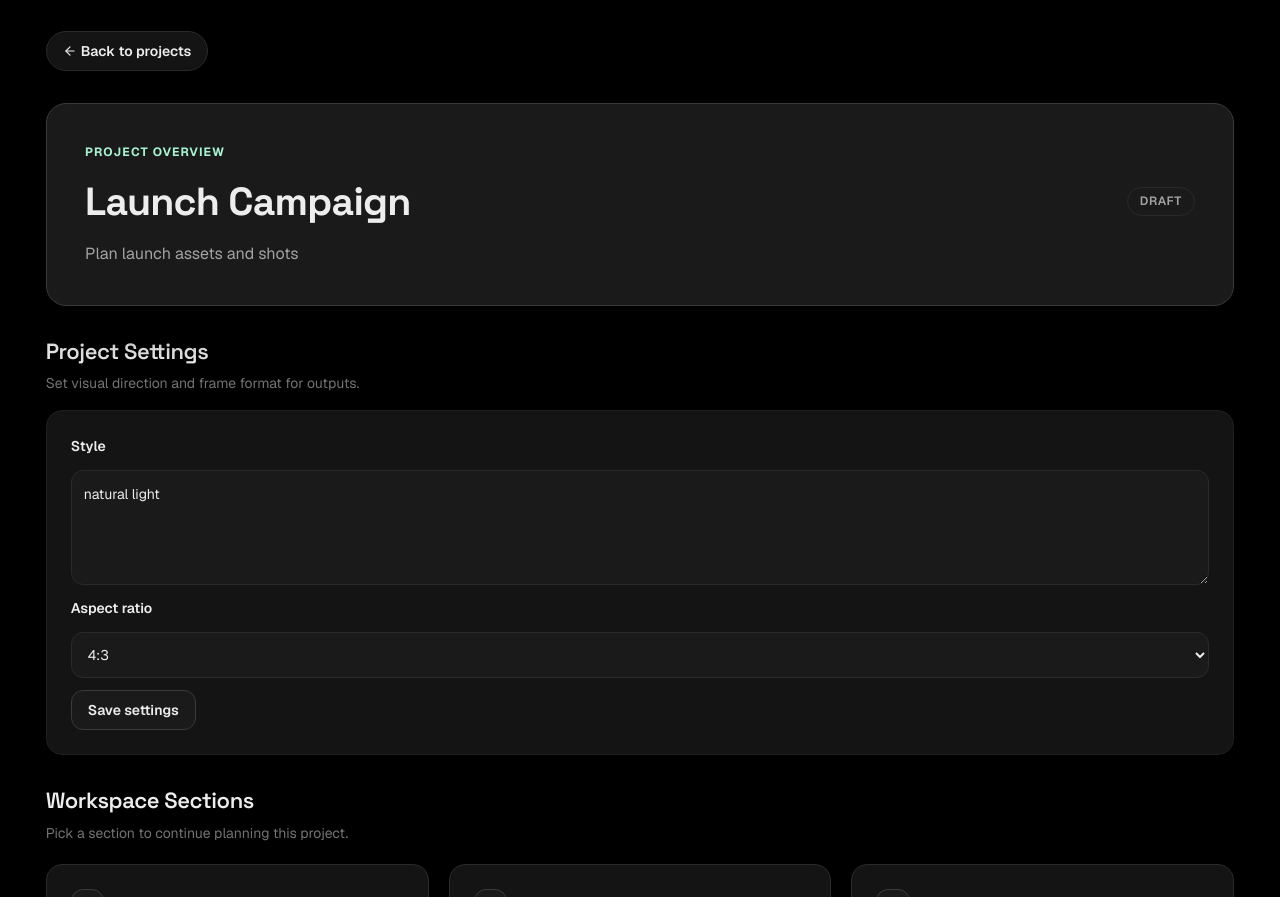
Test: ProjectOverviewPage › shows error feedback and re-enables save when update fails
Step 1. Click the button "Save settings" → (133, 710), box x1=71 y1=690 x2=196 y2=730
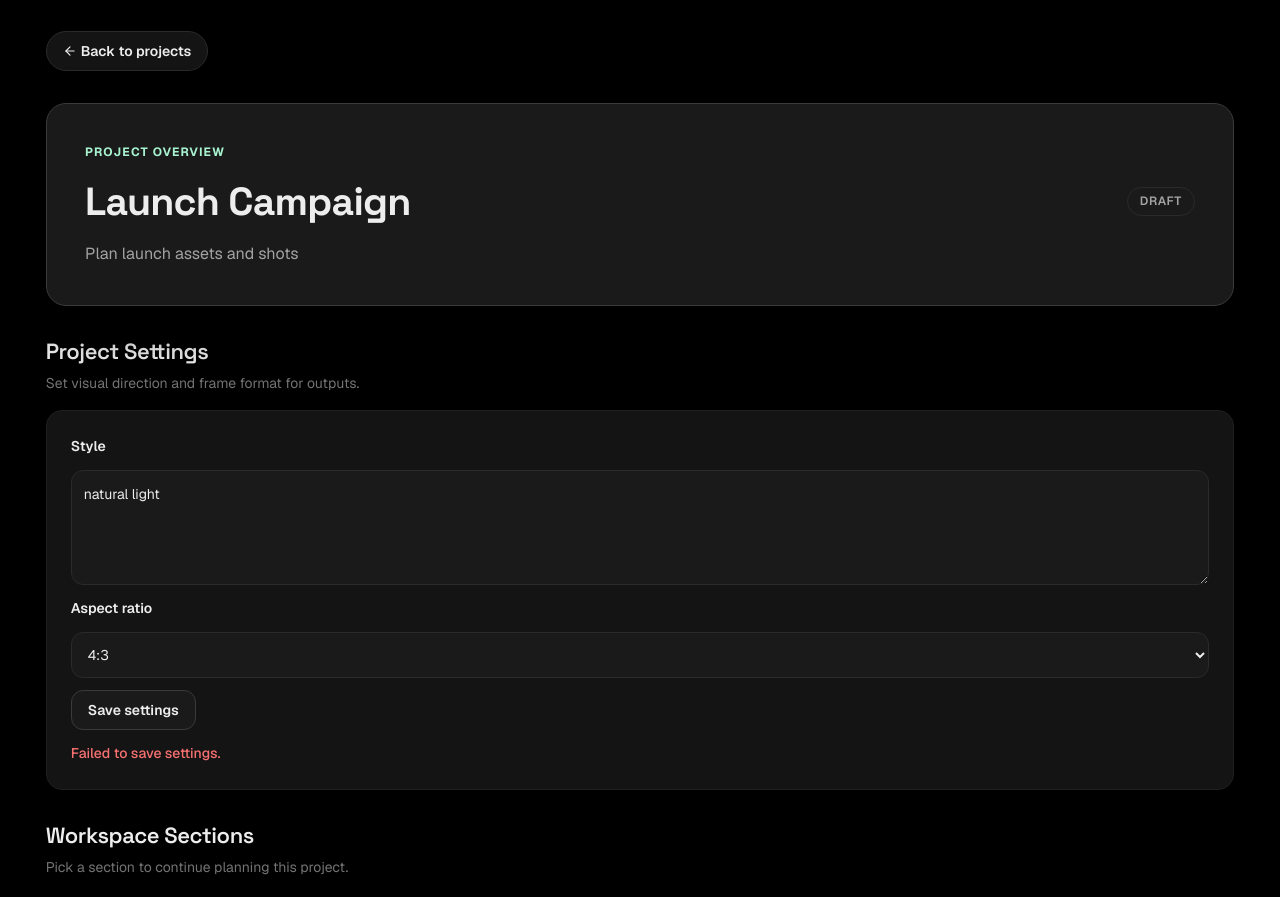
Now the message reads "Failed to save settings.", box x1=71 y1=744 x2=220 y2=762
